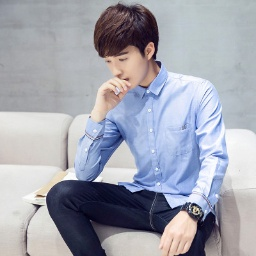face: (94, 3, 159, 91)
